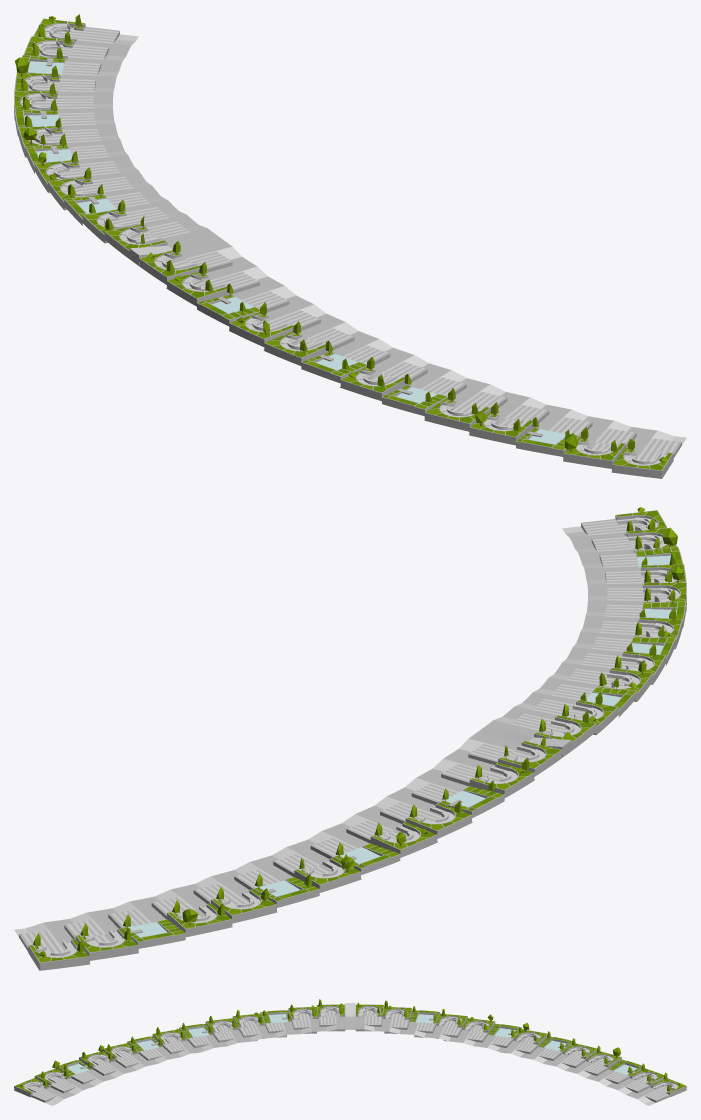
Rendered from ring7_segment_low.glb.
3 views of the same model, one above another, from view 1: azimuth 30°, elevation 25°; view 2: azimuth 150°, elevation 25°; view 3: azimuth 270°, elevation 25° (orthographic). The views are drawn at different scales.
Visible parts, largest first — view 1: RING_7_MOD_LOW; view 2: RING_7_MOD_LOW; view 3: RING_7_MOD_LOW.
Part boxes in pixels (x1=…): RING_7_MOD_LOW: x1=14, y1=14, x2=686, y2=478; RING_7_MOD_LOW: x1=14, y1=507, x2=686, y2=970; RING_7_MOD_LOW: x1=14, y1=999, x2=686, y2=1105.
Bounding box in the file's own units: 7287 × 1625 × 27999.
